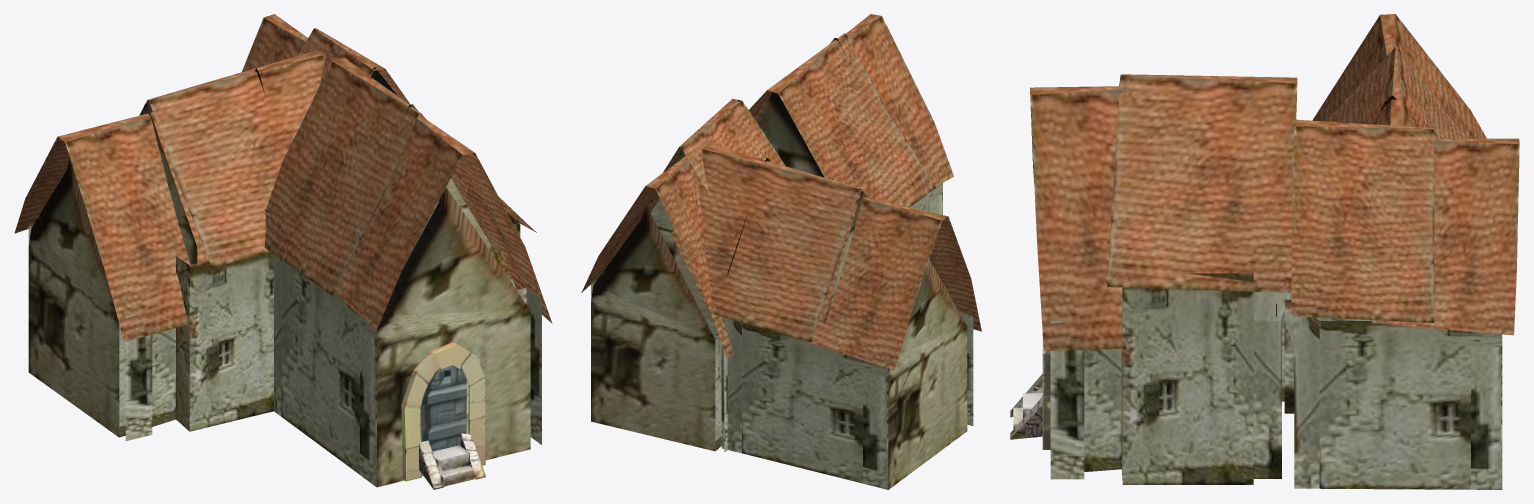
3 views of the same model, side by side, from view 1: azimuth 30°, elevation 25°; view 2: azimuth 150°, elevation 25°; view 3: azimuth 270°, elevation 25° (orthographic). The views are drawn at different scales.
Parts seen in each view (by area): view 1: h9.001; view 2: h9.001; view 3: h9.001.
Part boxes in pixels (bbox=[...]): h9.001: bbox=[14, 14, 552, 489]; h9.001: bbox=[581, 14, 981, 489]; h9.001: bbox=[1010, 14, 1519, 489].
Bounding box in the file's own units: 2.18 × 1.94 × 2.47.
Materials: 3 (3 with a texture image).
